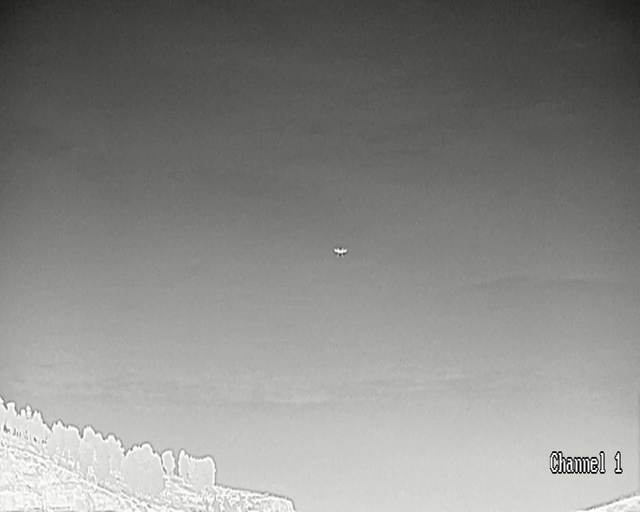uav: (334, 247, 347, 257)
